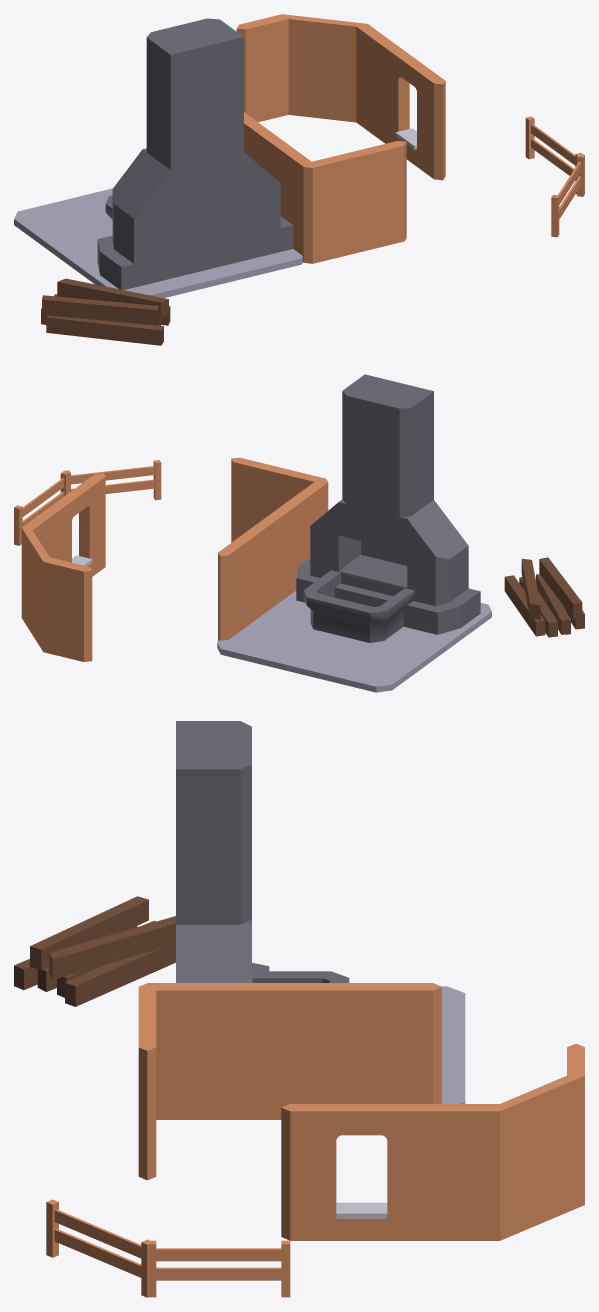
File: Forge_construct.fbx
The picture shows the model from 3 angles, top to bottom: view 1: azimuth 30°, elevation 25°; view 2: azimuth 150°, elevation 25°; view 3: azimuth 270°, elevation 25°; orthographic projection. The views are drawn at different scales.
Visible parts, largest first — view 1: detail_chimneyBase_59, wall_cornerDiagonal_69, wall_corner_70, floor_square_63, wall_windowSquare_95, debris_wood_90, fence_wood_87, fence_wood_88; view 2: detail_chimneyBase_59, floor_square_63, wall_cornerDiagonal_69, wall_corner_70, wall_straight_73, detail_chimneyTop_61, debris_wood_90, wall_windowSquare_95, fence_wood_88, fence_wood_87; view 3: wall_corner_70, wall_cornerDiagonal_69, detail_chimneyBase_59, wall_straight_73, wall_windowSquare_95, debris_wood_90, fence_wood_87, fence_wood_88, floor_square_63, detail_chimneyTop_61.
Part boxes in pixels (x1=…): detail_chimneyBase_59: x1=97, y1=18, x2=293, y2=289; wall_cornerDiagonal_69: x1=236, y1=14, x2=392, y2=140; wall_corner_70: x1=251, y1=125, x2=406, y2=263; floor_square_63: x1=14, y1=188, x2=302, y2=297; wall_windowSquare_95: x1=381, y1=41, x2=445, y2=180; debris_wood_90: x1=41, y1=278, x2=170, y2=345; fence_wood_87: x1=525, y1=116, x2=583, y2=194; fence_wood_88: x1=551, y1=154, x2=584, y2=237; detail_chimneyBase_59: x1=296, y1=374, x2=480, y2=634; floor_square_63: x1=217, y1=590, x2=491, y2=692; wall_cornerDiagonal_69: x1=21, y1=510, x2=92, y2=661; wall_corner_70: x1=231, y1=457, x2=328, y2=602; wall_straight_73: x1=218, y1=515, x2=278, y2=640; detail_chimneyTop_61: x1=303, y1=570, x2=414, y2=642; debris_wood_90: x1=504, y1=557, x2=584, y2=637; wall_windowSquare_95: x1=45, y1=473, x2=105, y2=576; fence_wood_88: x1=63, y1=460, x2=161, y2=500; fence_wood_87: x1=14, y1=471, x2=68, y2=545; wall_corner_70: x1=138, y1=983, x2=295, y2=1180; wall_cornerDiagonal_69: x1=424, y1=1043, x2=584, y2=1240; detail_chimneyBase_59: x1=176, y1=721, x2=269, y2=982; wall_straight_73: x1=282, y1=983, x2=441, y2=1103; wall_windowSquare_95: x1=281, y1=1104, x2=441, y2=1240; debris_wood_90: x1=14, y1=896, x2=175, y2=1006; fence_wood_87: x1=147, y1=1240, x2=290, y2=1297; fence_wood_88: x1=46, y1=1199, x2=149, y2=1297; floor_square_63: x1=441, y1=986, x2=465, y2=1103; detail_chimneyTop_61: x1=252, y1=971, x2=349, y2=982.
Bounding box in the file's own units: 59.68 × 24 × 39.97.
